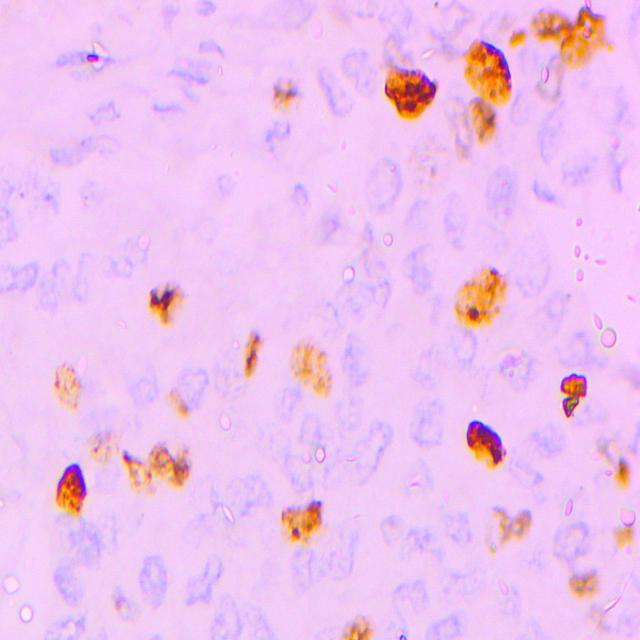Healthy cell: (338, 332, 382, 396), (508, 238, 556, 296), (210, 470, 270, 512), (562, 328, 616, 372), (119, 352, 164, 404), (382, 513, 426, 565), (106, 232, 150, 284), (410, 396, 452, 447), (253, 109, 299, 155), (318, 63, 356, 117), (33, 254, 65, 316), (324, 520, 356, 582), (353, 423, 390, 476), (282, 437, 318, 491), (435, 507, 474, 555), (189, 559, 227, 608), (369, 160, 399, 216), (544, 519, 582, 563), (502, 350, 539, 395), (426, 0, 470, 37), (485, 165, 514, 219), (400, 242, 439, 282), (416, 607, 462, 640), (140, 559, 168, 613), (69, 253, 98, 304), (63, 524, 101, 562), (532, 412, 563, 456), (395, 580, 425, 625), (234, 604, 269, 640), (0, 260, 37, 294), (349, 47, 374, 95), (54, 560, 80, 605), (450, 330, 480, 369), (443, 192, 466, 242), (289, 549, 314, 593), (402, 454, 428, 494), (289, 182, 310, 222), (203, 610, 227, 640), (294, 410, 318, 440), (334, 402, 358, 428), (272, 388, 291, 414)
cancer-cell-QiJm: (450, 262, 510, 330), (566, 0, 621, 72), (466, 36, 517, 110), (382, 63, 442, 124), (466, 412, 516, 484), (286, 333, 332, 395), (482, 504, 532, 558), (282, 490, 325, 548), (84, 416, 128, 472), (152, 439, 196, 494), (319, 0, 379, 39), (526, 49, 569, 100), (140, 280, 187, 325), (269, 73, 306, 119), (462, 98, 496, 148), (54, 462, 88, 511), (49, 362, 82, 412), (118, 449, 152, 497), (527, 5, 571, 42), (581, 601, 616, 640), (442, 134, 476, 172), (564, 563, 598, 599), (607, 449, 634, 494), (402, 148, 436, 180), (339, 613, 379, 640), (108, 583, 136, 621), (183, 366, 210, 405), (244, 329, 264, 377), (558, 370, 592, 398), (562, 390, 584, 430), (78, 48, 109, 76), (494, 23, 528, 48), (594, 440, 616, 476), (167, 382, 186, 419), (614, 518, 640, 545), (319, 174, 343, 196)
